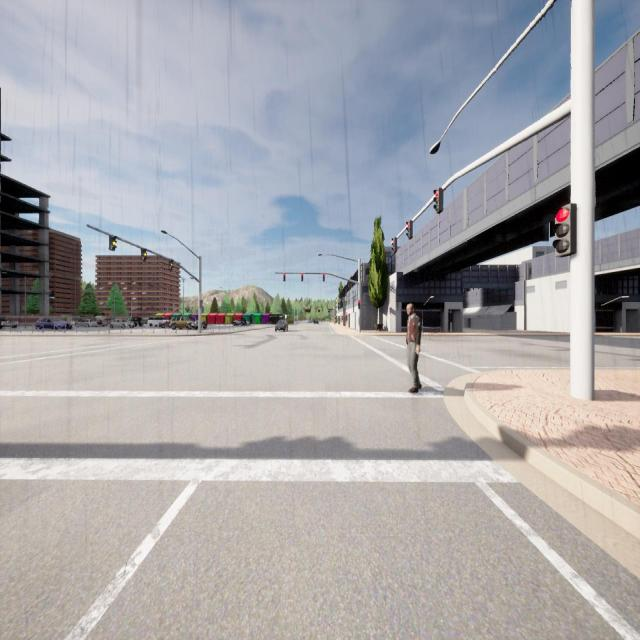Pedestrian: (406, 302, 422, 392)
Vehicle: (34, 316, 73, 330), (170, 316, 192, 330), (110, 318, 134, 329), (0, 315, 18, 329), (147, 316, 168, 327), (75, 318, 98, 328), (275, 319, 288, 332), (95, 315, 109, 327), (191, 320, 207, 330), (130, 317, 142, 327), (232, 318, 246, 326), (159, 320, 171, 328), (314, 319, 318, 325), (246, 320, 250, 326), (308, 319, 312, 324)
traffic_light: (552, 204, 577, 257), (434, 188, 444, 214), (109, 235, 117, 251), (406, 220, 412, 240), (391, 237, 397, 253), (141, 248, 147, 261), (168, 259, 173, 270), (199, 300, 203, 308), (301, 272, 303, 282), (284, 272, 286, 282), (358, 300, 360, 309), (323, 274, 325, 282)
